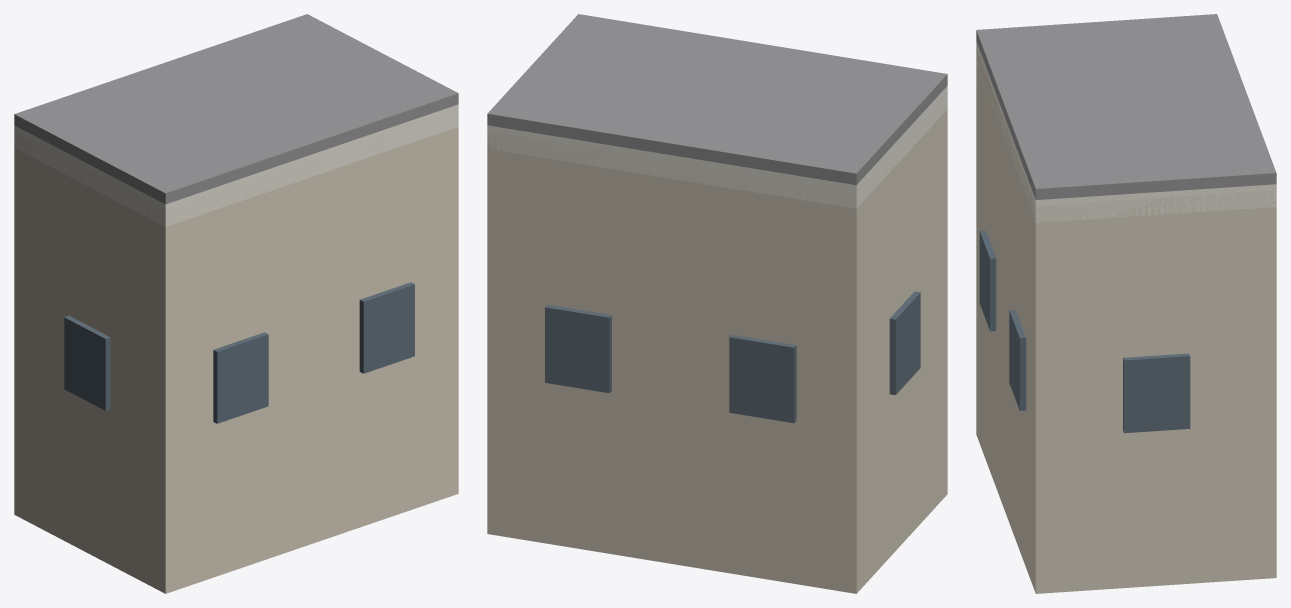
File: s54_gis_248208_820877.glb
3 renders of one model, left to right at view 1: azimuth 30°, elevation 25°; view 2: azimuth 150°, elevation 25°; view 3: azimuth 270°, elevation 25°, orthographic. The views are drawn at different scales.
Parts seen in each view (by area): view 1: mass, roofcap, cornice, win_2_0_0, win_2_0_1, win_1_0_0; view 2: mass, roofcap, cornice, win_0_0_1, win_0_0_0, win_1_0_0; view 3: mass, roofcap, cornice, win_3_0_0, win_2_0_0, win_2_0_1.
Boxes of the visible parts, bbox=[...] form: mass: bbox=[14, 111, 458, 593]; roofcap: bbox=[14, 14, 458, 204]; cornice: bbox=[14, 104, 458, 226]; win_2_0_0: bbox=[213, 332, 268, 423]; win_2_0_1: bbox=[359, 282, 414, 373]; win_1_0_0: bbox=[64, 315, 110, 410]; mass: bbox=[487, 101, 947, 593]; roofcap: bbox=[487, 14, 947, 185]; cornice: bbox=[487, 86, 947, 208]; win_0_0_1: bbox=[729, 334, 796, 423]; win_0_0_0: bbox=[545, 304, 611, 393]; win_1_0_0: bbox=[889, 291, 920, 395]; mass: bbox=[976, 47, 1276, 593]; roofcap: bbox=[976, 14, 1276, 199]; cornice: bbox=[976, 41, 1276, 222]; win_3_0_0: bbox=[1123, 353, 1190, 433]; win_2_0_0: bbox=[979, 230, 996, 331]; win_2_0_1: bbox=[1009, 310, 1026, 410].
Size of the model in its own units: 7.74 by 8.35 by 5.61.
